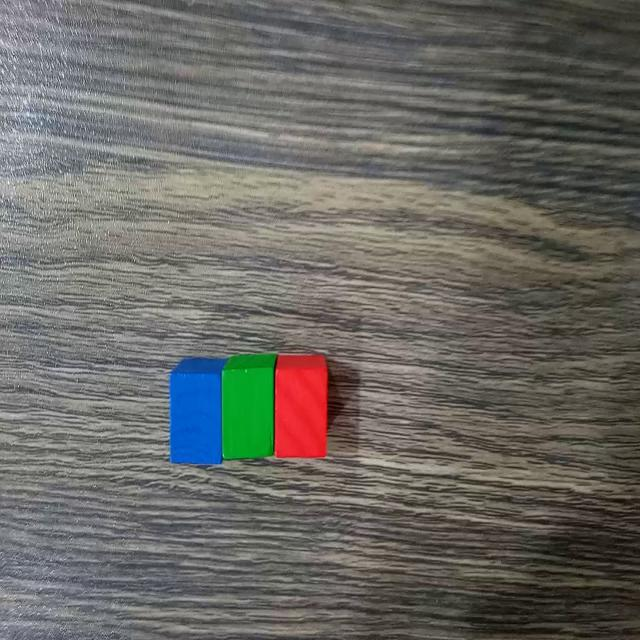cube: (166, 351, 222, 472), (275, 346, 331, 463), (222, 350, 274, 469)
